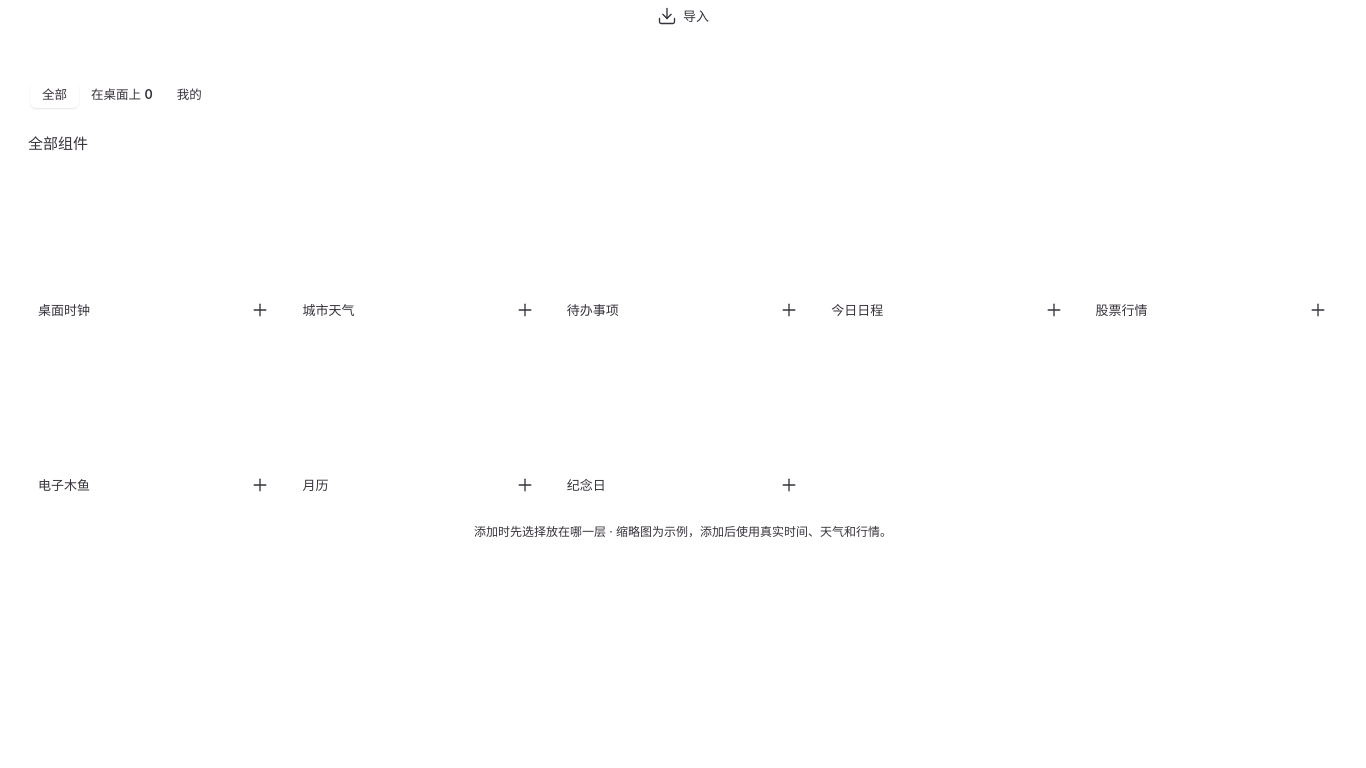
Test: replacement widget library › asks for the layer before adding, and keeps the widget off the desktop until one is picked
Click the button with test id "add-clock": (257, 310) [244, 297, 270, 323]
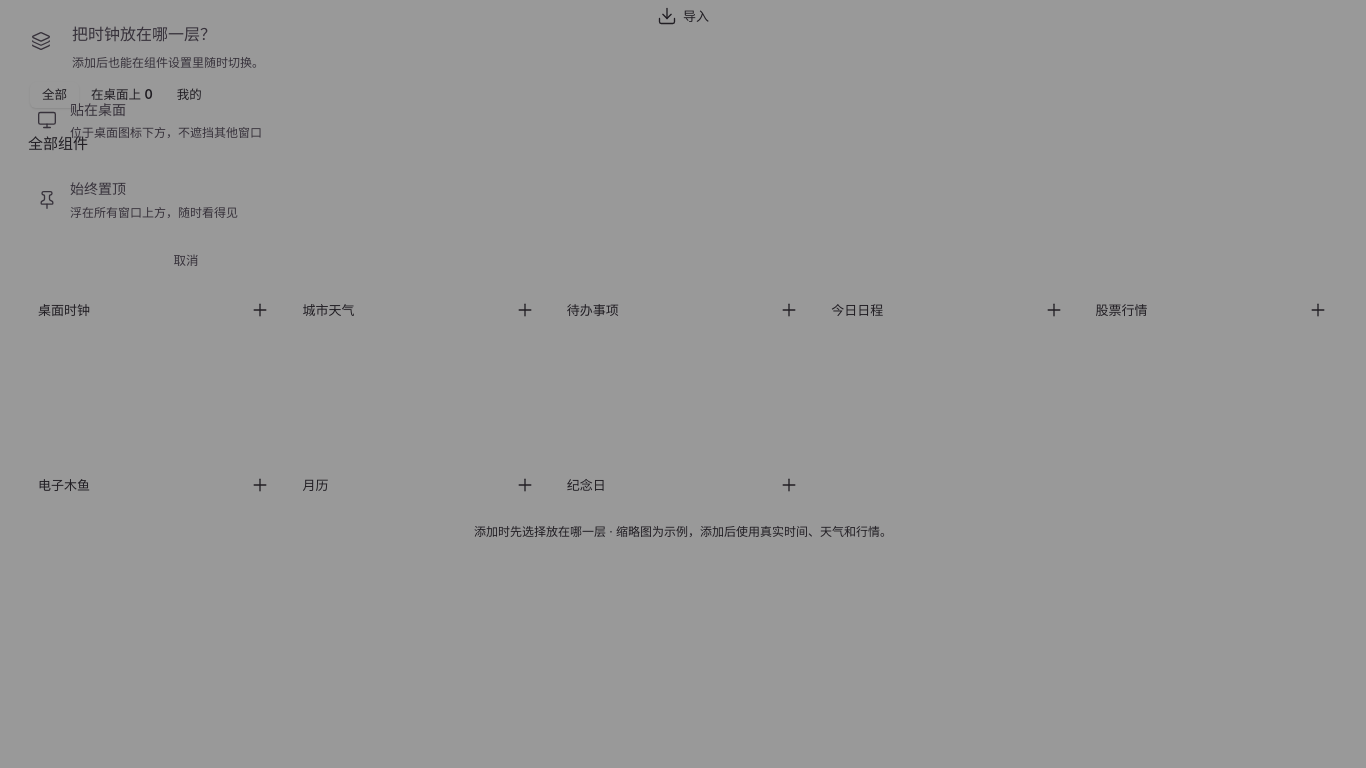
Check: the dialog with test id "widget-layer-dialog" is shown, box [0, 0, 372, 299]
Check: the dialog with test id "widget-layer-dialog" shows "贴在桌面", box [22, 86, 350, 155]
Check: the dialog with test id "widget-layer-dialog" shows "始终置顶", box [22, 165, 350, 235]
Click the button with class "layer-cancel": (186, 261) [162, 245, 210, 277]
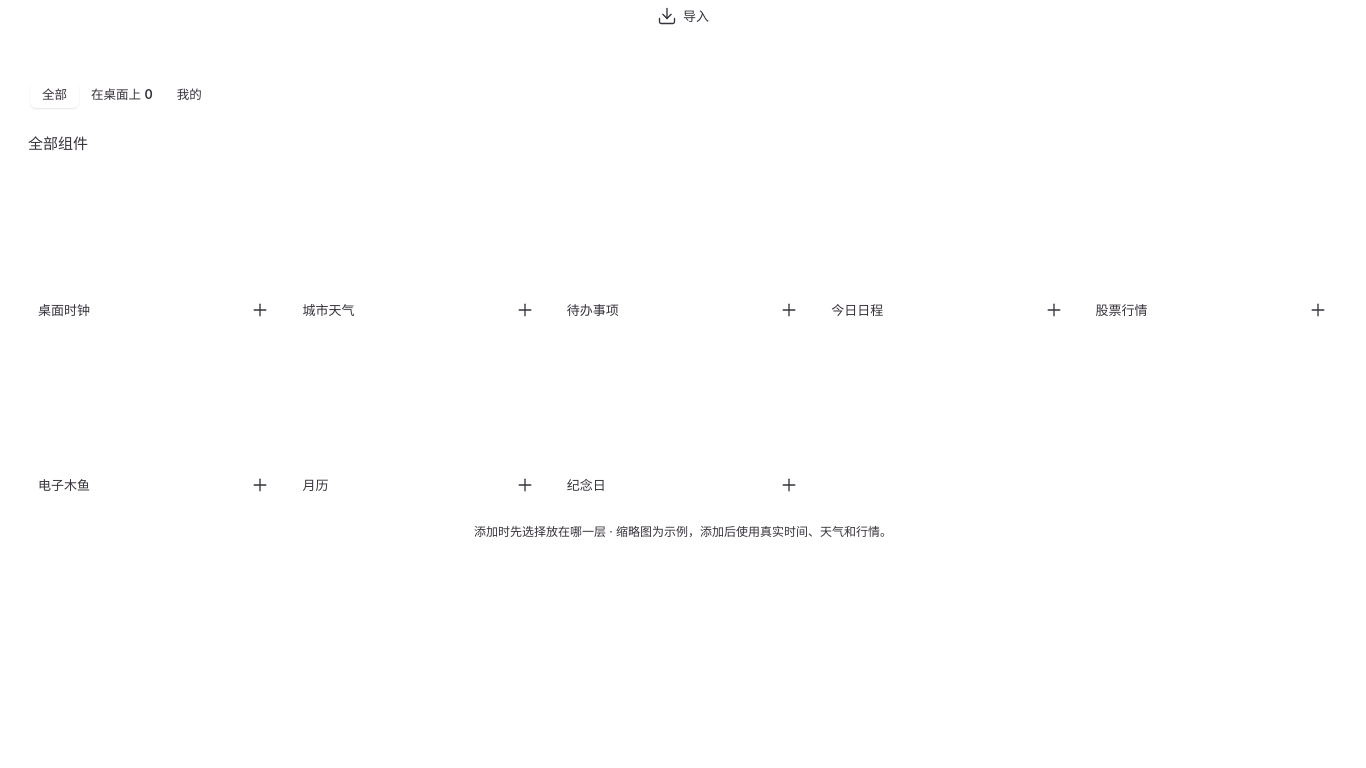
Check: the button with test id "add-clock" is collapsed, box [244, 297, 270, 323]
